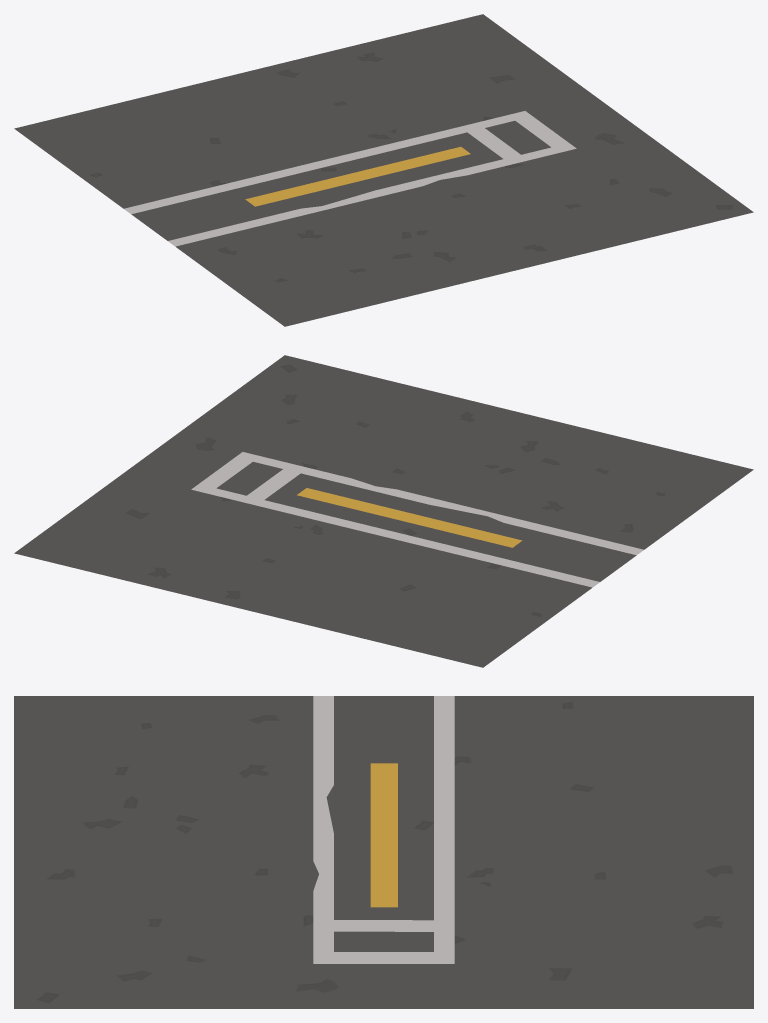
Rendered from SM_Env_Ground_Lines_Small_End_01.fbx.
3 renders of one model, top to bottom at view 1: azimuth 30°, elevation 25°; view 2: azimuth 150°, elevation 25°; view 3: azimuth 270°, elevation 25°, orthographic. The views are drawn at different scales.
Parts seen in each view (by area): view 1: SM_Env_Ground_Lines_Small_End_01; view 2: SM_Env_Ground_Lines_Small_End_01; view 3: SM_Env_Ground_Lines_Small_End_01.
Boxes of the visible parts, x1,y1,x2,y2 form: SM_Env_Ground_Lines_Small_End_01: (14, 14, 753, 326); SM_Env_Ground_Lines_Small_End_01: (14, 355, 753, 667); SM_Env_Ground_Lines_Small_End_01: (14, 696, 753, 1008).
Size of the model in its own units: 1000 by 1.82e-12 by 1000.
